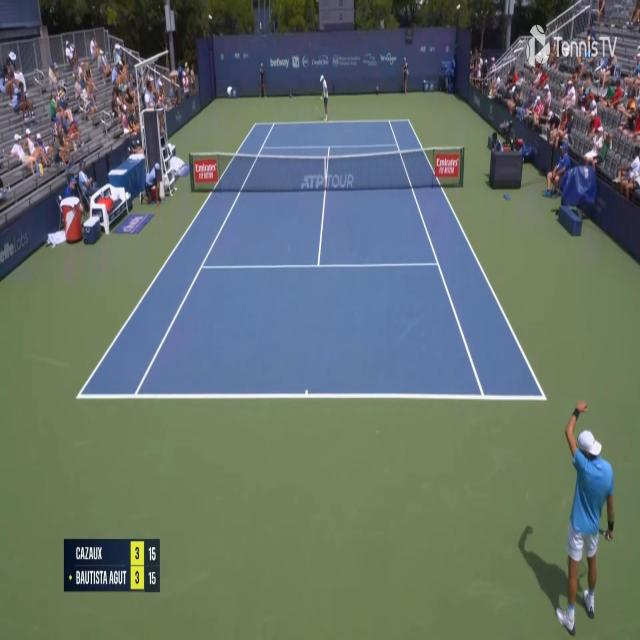tennis-player: (557, 389, 618, 636), (318, 72, 330, 121)
